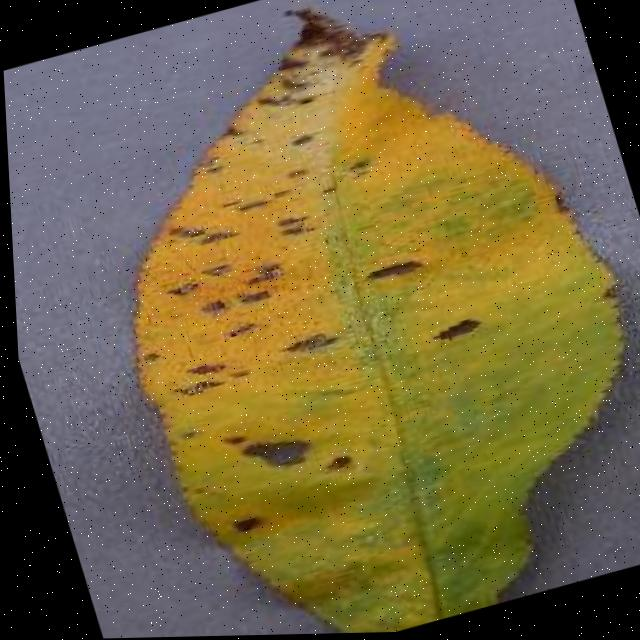Bacterial_spot: (29, 0, 579, 639)
